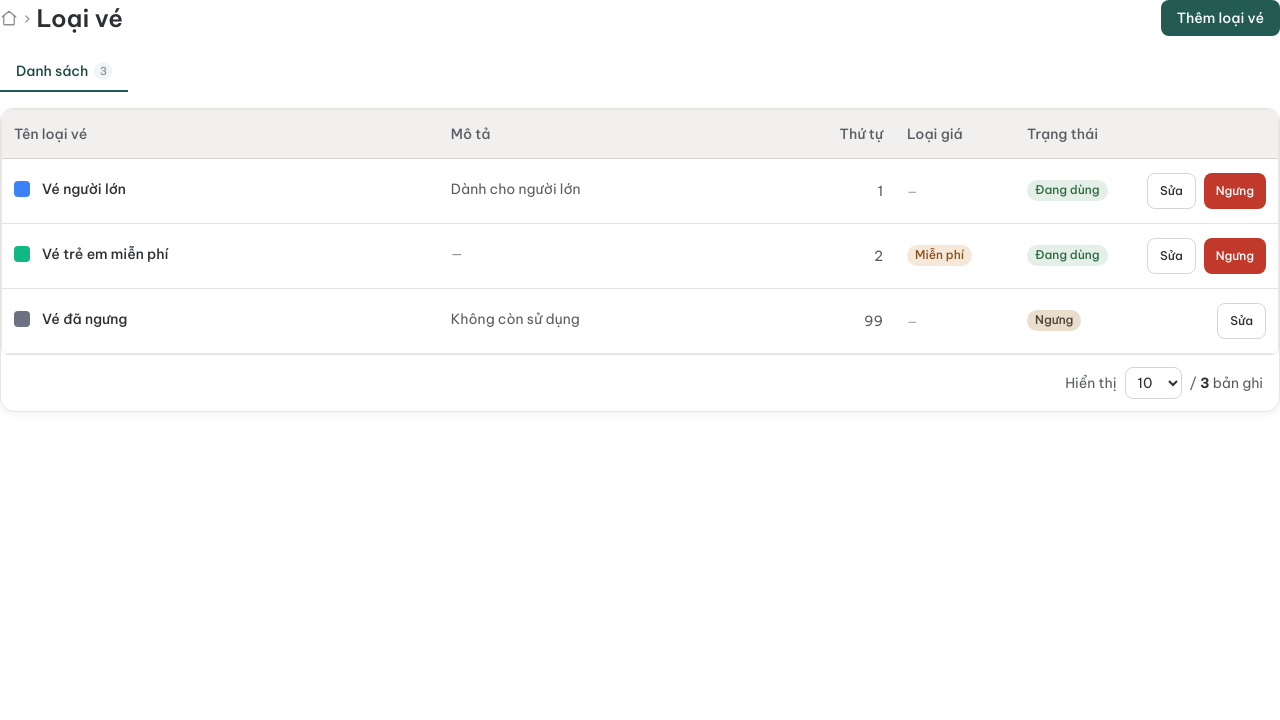
TicketTypesPage › surfaces error message when POST returns 403
Expected: the text "Vé người lớn" is shown, left=42, top=180, right=126, bottom=198
Note: Open create dialog.
Step 1. Click the button "Thêm loại vé" → (1220, 18), box left=1161, top=0, right=1279, bottom=36
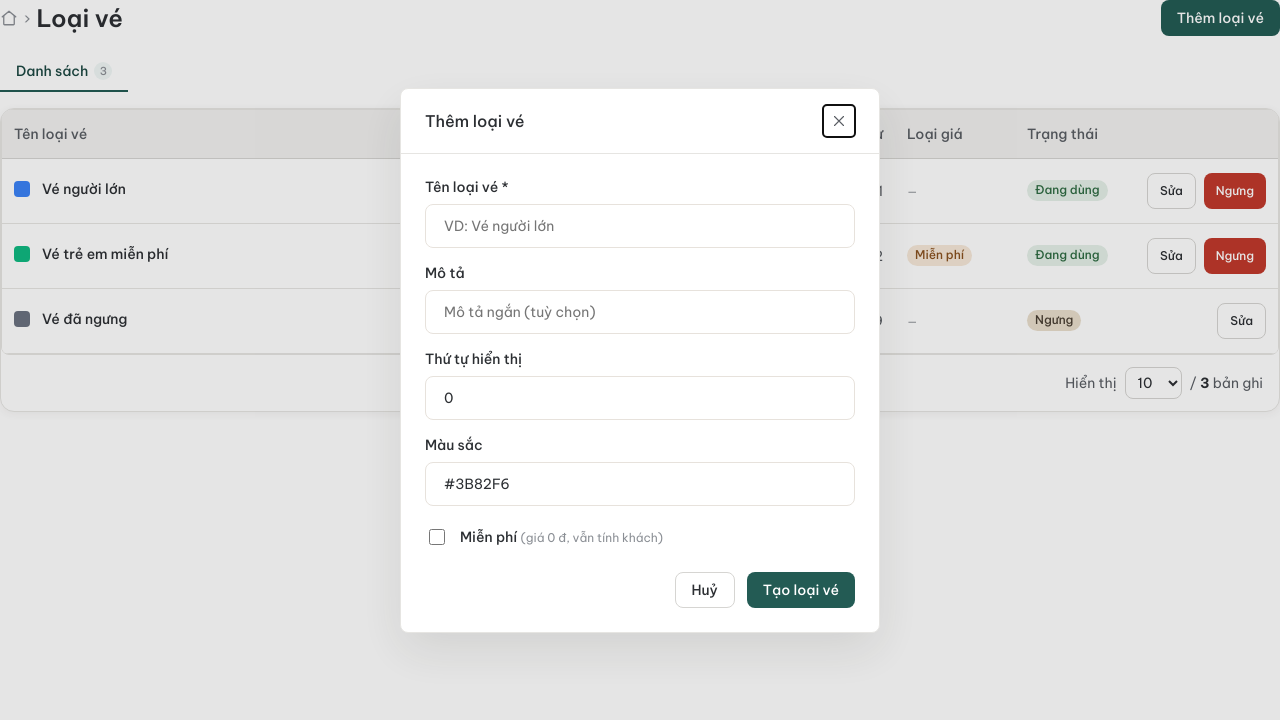
Expected: the field labelled "Tên loại vé *" is shown
Note: Fill name and submit.
Step 2. Type "Vé không được phép" into the field labelled "Tên loại vé *" → (640, 226), box left=442, top=204, right=838, bottom=246
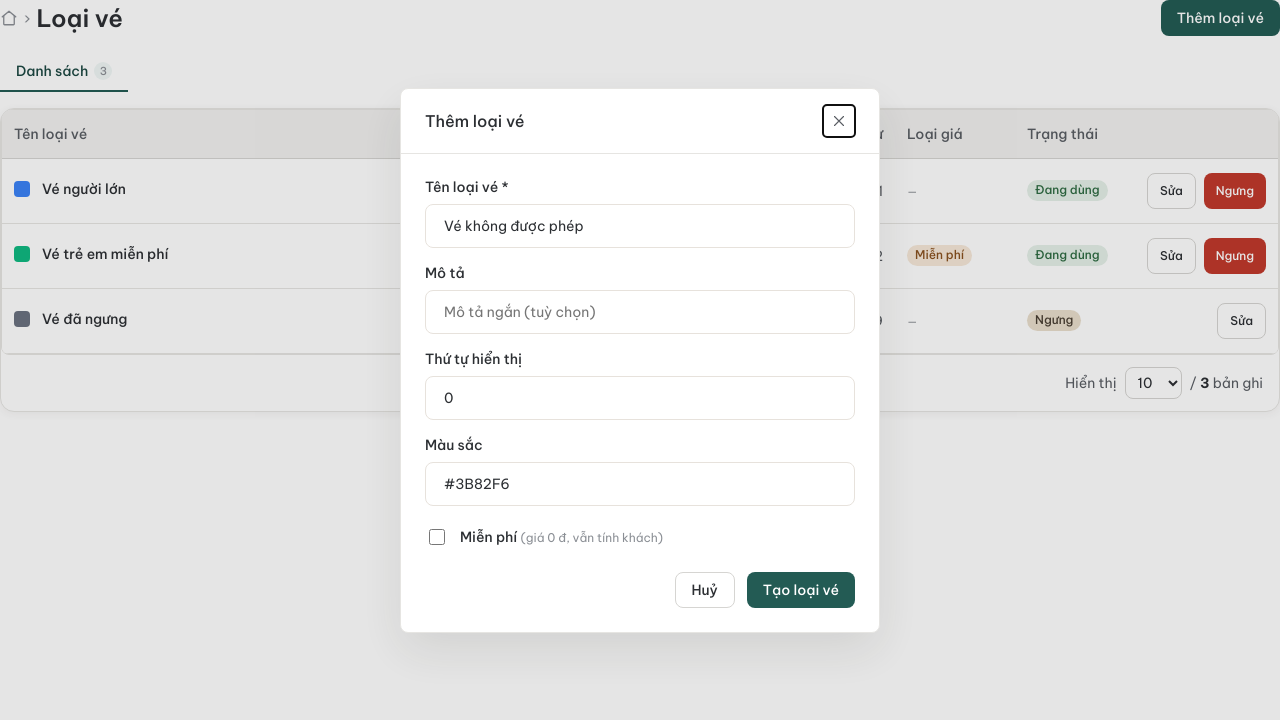
Step 3. Click the button "Tạo loại vé" → (801, 590), box left=747, top=572, right=855, bottom=608
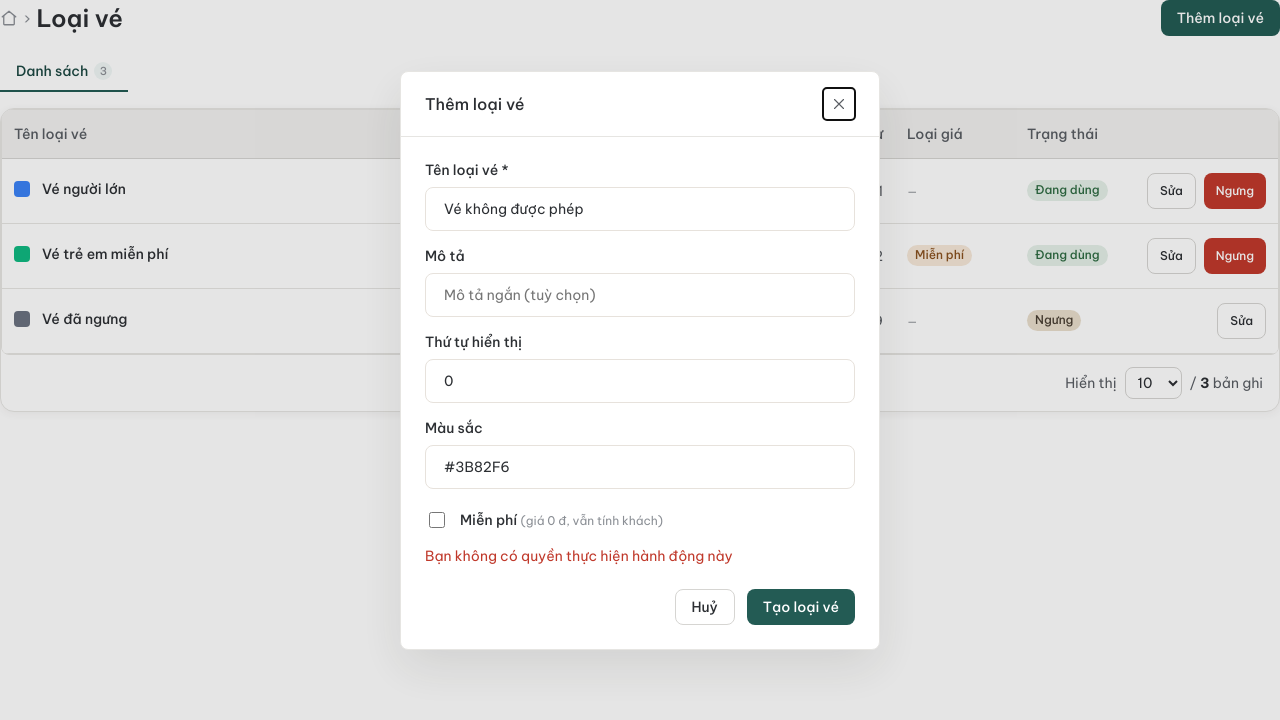
Expected: the message "Bạn không có quyền thực hiện hành động này" is shown, left=425, top=546, right=733, bottom=564
